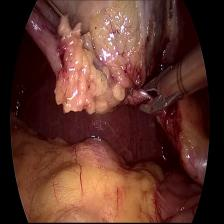Clipper: (139, 52, 194, 119)
